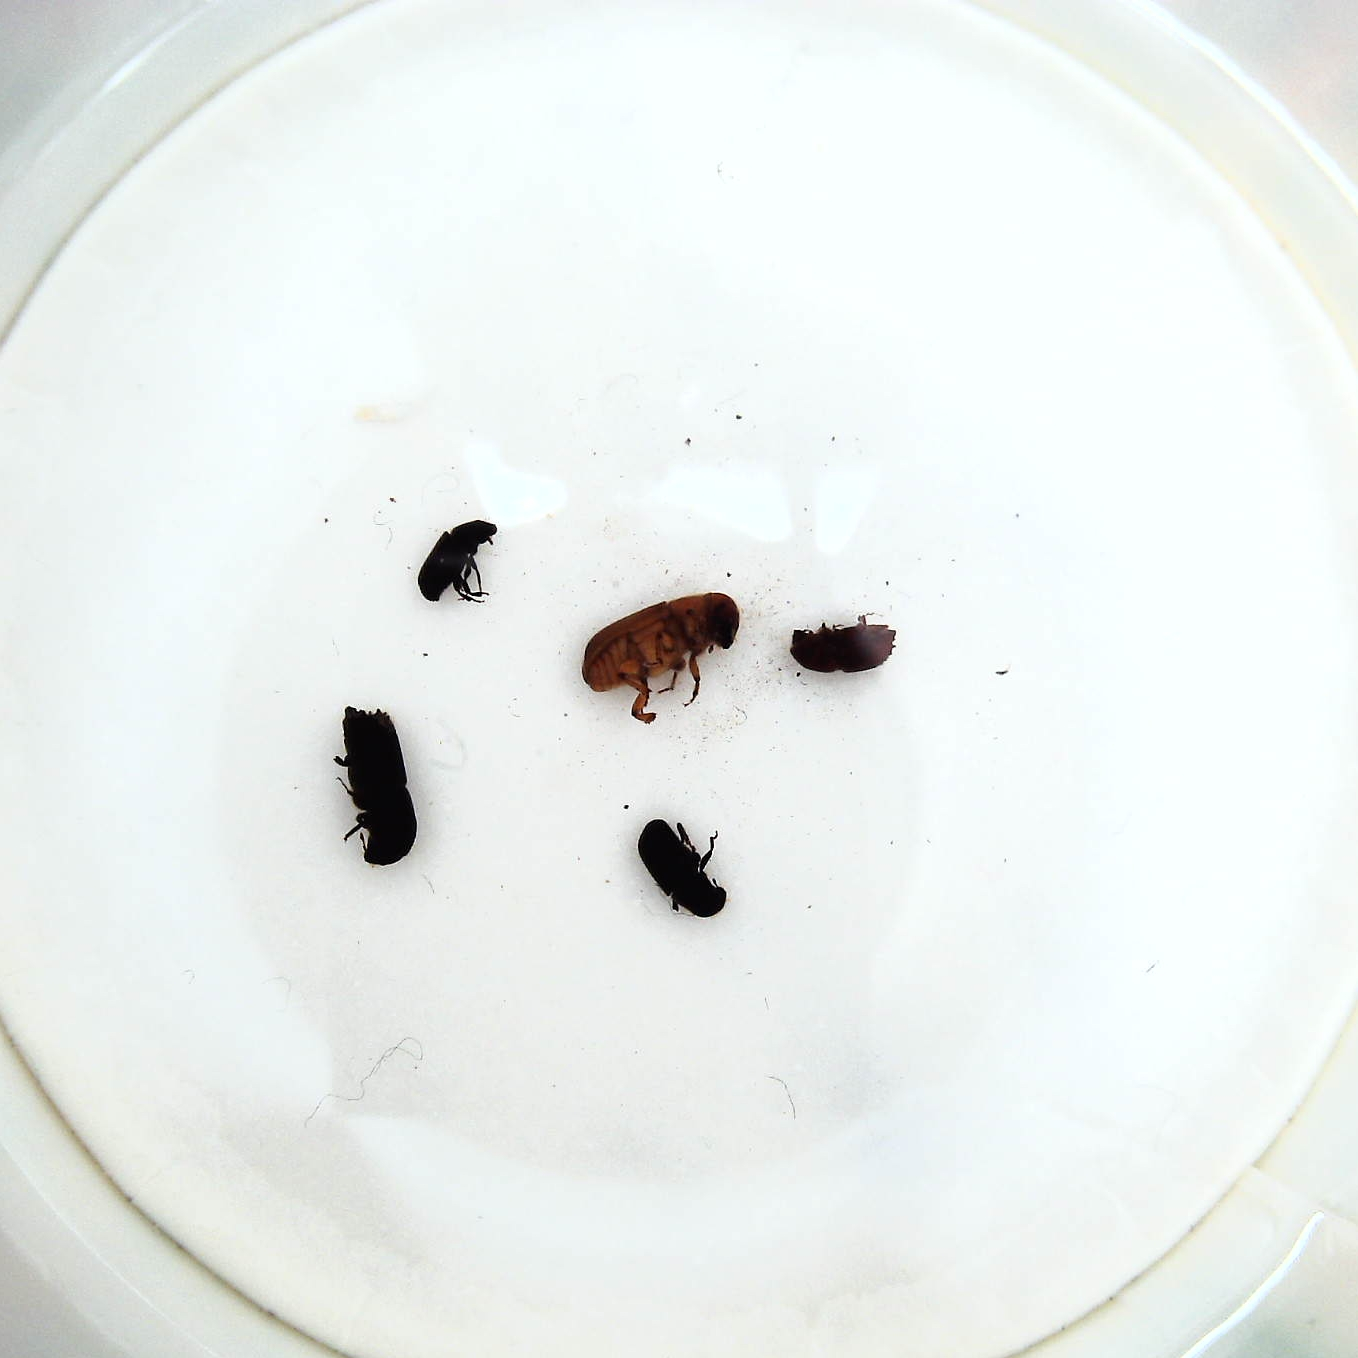Boerner: (335, 701, 424, 871)
Leconte: (580, 589, 741, 726)
armandi: (635, 817, 734, 926)
coleoptera: (414, 519, 505, 612)
linnaeus: (783, 619, 902, 678)
